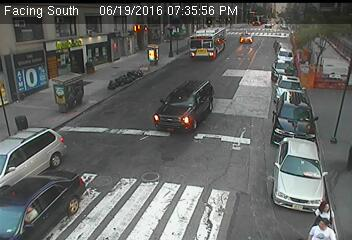neg: (193, 78, 226, 122), (186, 170, 212, 204), (75, 187, 100, 220), (25, 37, 49, 69), (106, 156, 130, 187), (269, 54, 290, 81), (113, 52, 133, 79), (289, 113, 309, 139), (61, 79, 80, 105), (13, 111, 32, 136), (182, 27, 200, 51), (41, 153, 57, 175), (83, 54, 98, 74)
pos: (316, 197, 333, 220), (316, 216, 333, 238), (267, 36, 283, 56)
